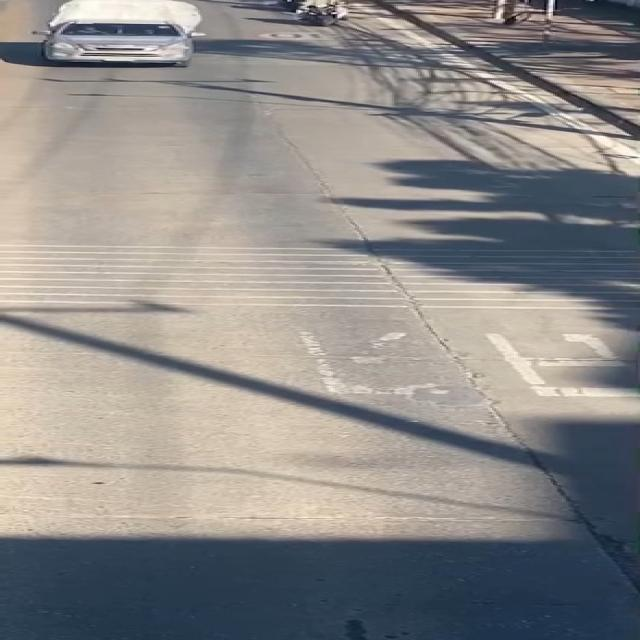car: (25, 10, 227, 75)
